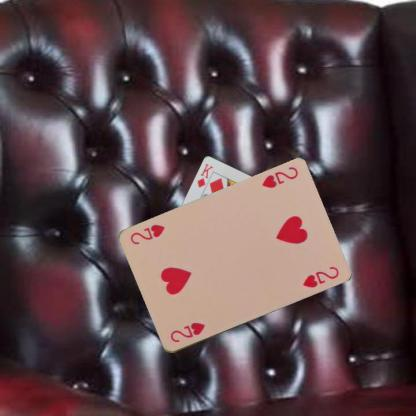2h: (259, 164, 299, 190), (167, 320, 206, 344)
Kd: (195, 161, 214, 189)
